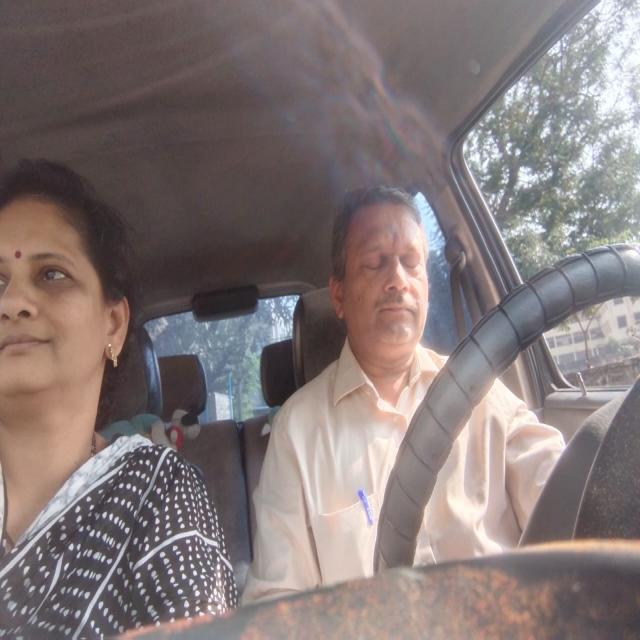drowsy: (308, 156, 434, 399)
person: (0, 136, 144, 444)
